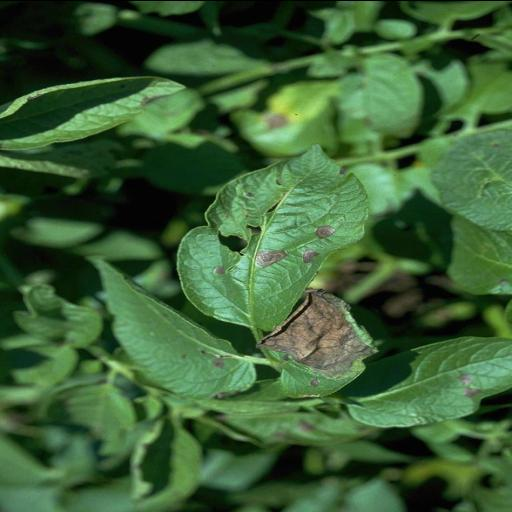Late Blight: (172, 142, 376, 332), (250, 287, 390, 397)
